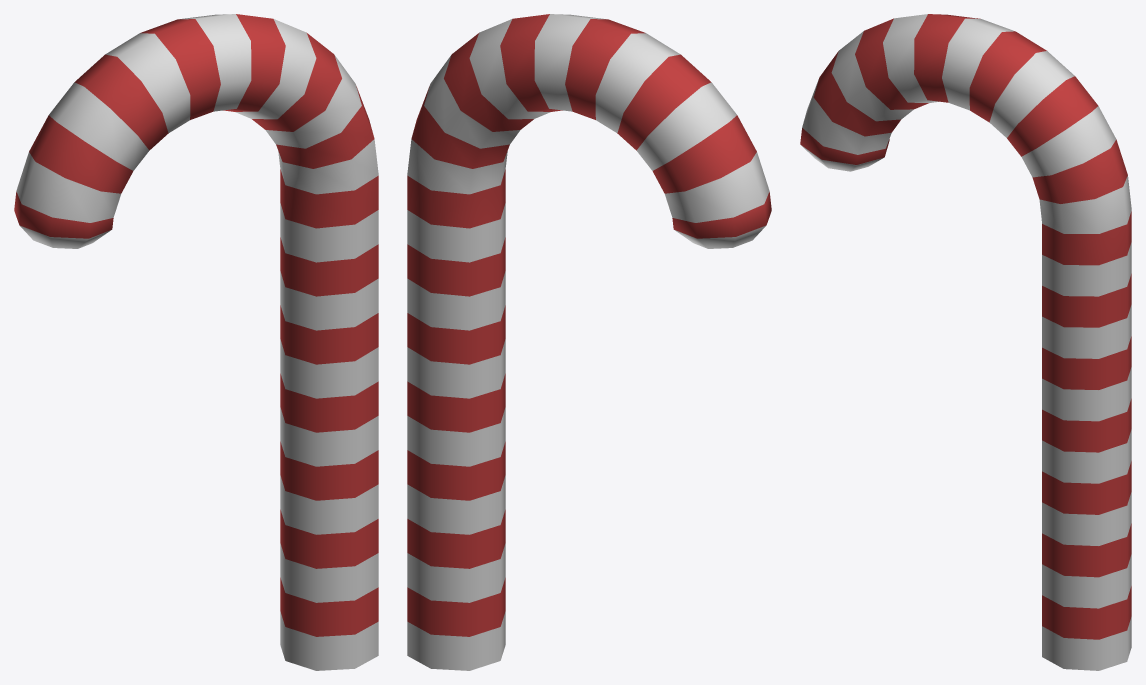
File: 3D_Candy_Cane.FBX
The picture shows the model from 3 angles, left to right: view 1: azimuth 30°, elevation 25°; view 2: azimuth 150°, elevation 25°; view 3: azimuth 330°, elevation 25°; orthographic projection. The views are drawn at different scales.
Visible parts, largest first — view 1: 3D_Candy_Cane; view 2: 3D_Candy_Cane; view 3: 3D_Candy_Cane.
Part boxes in pixels (box(x1,y1,x2,y2)): 3D_Candy_Cane: box(14, 14, 378, 670); 3D_Candy_Cane: box(407, 14, 771, 670); 3D_Candy_Cane: box(800, 14, 1131, 670).
Bounding box in the file's own units: 66.07 × 118 × 16.48.
